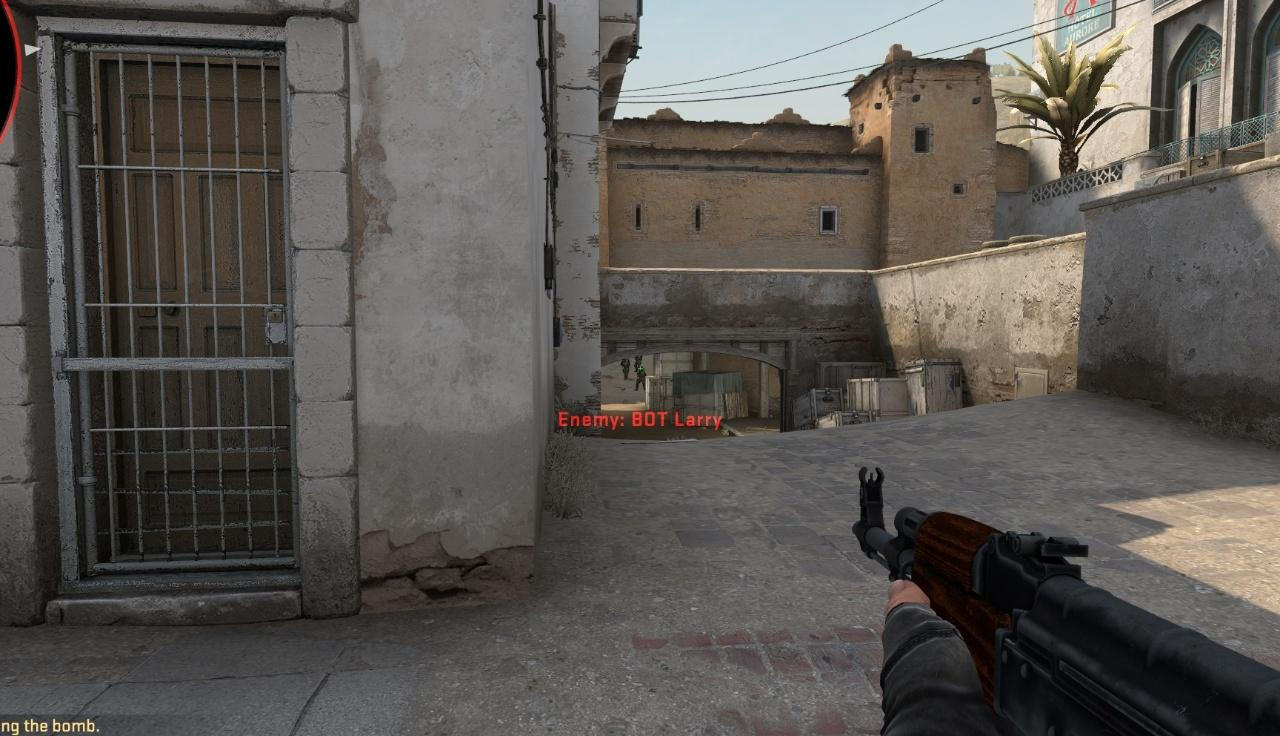ct: (636, 367, 645, 391), (622, 359, 629, 379), (634, 356, 642, 368)
rifle: (851, 468, 1280, 736)
